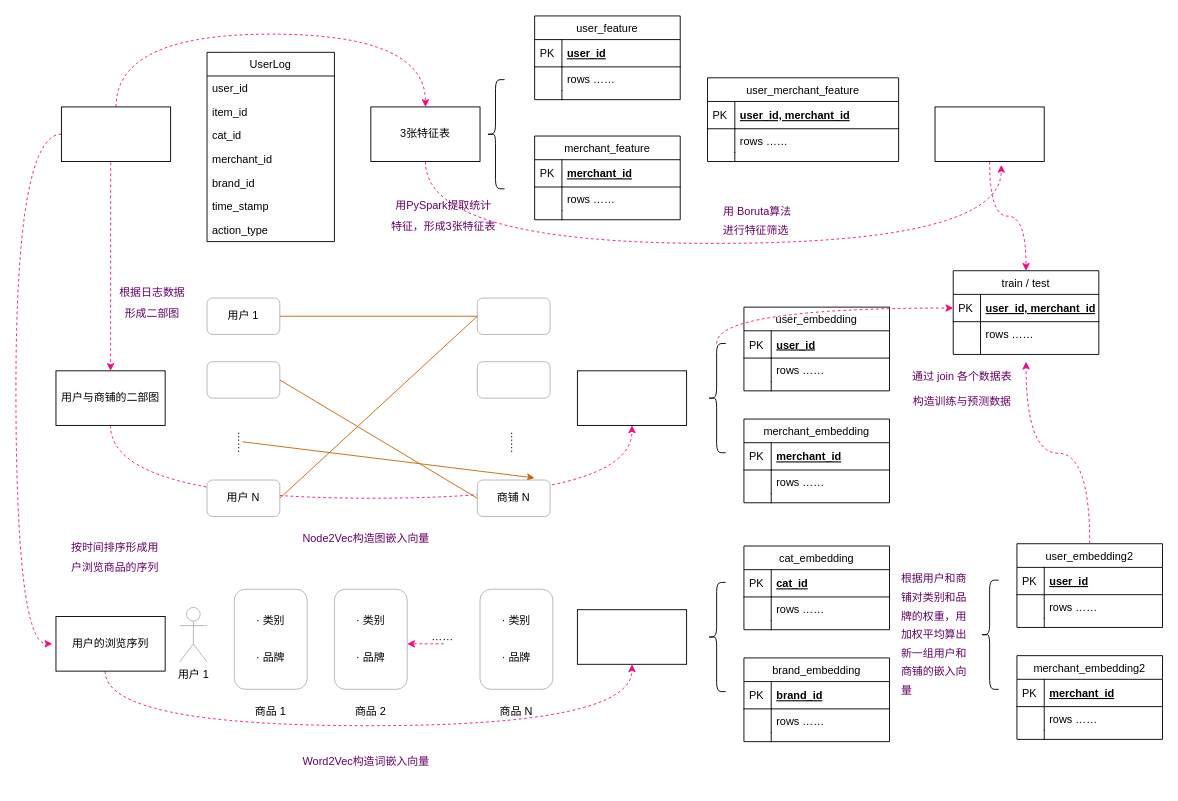
This 1178x801 diagram has some shape labels left out. Here are the shapes that lost their labels. From the top down, the centre of each, then its label:
point 116,134: 用户与商品交互的日志数据
point 989,134: 特征筛选后的统计特征
point 513,315: 商铺 1
point 243,379: 用户 2
point 513,379: 商铺 2
point 631,397: 用户与商铺的图嵌入向量
point 631,636: 类别和品牌的词嵌入向量
